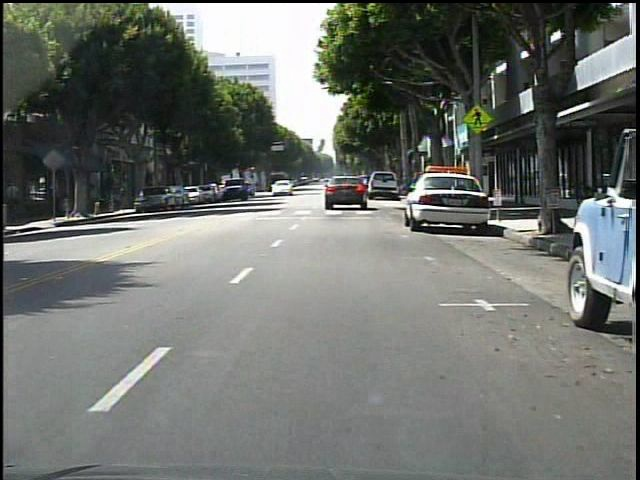person: (7, 179, 26, 228)
